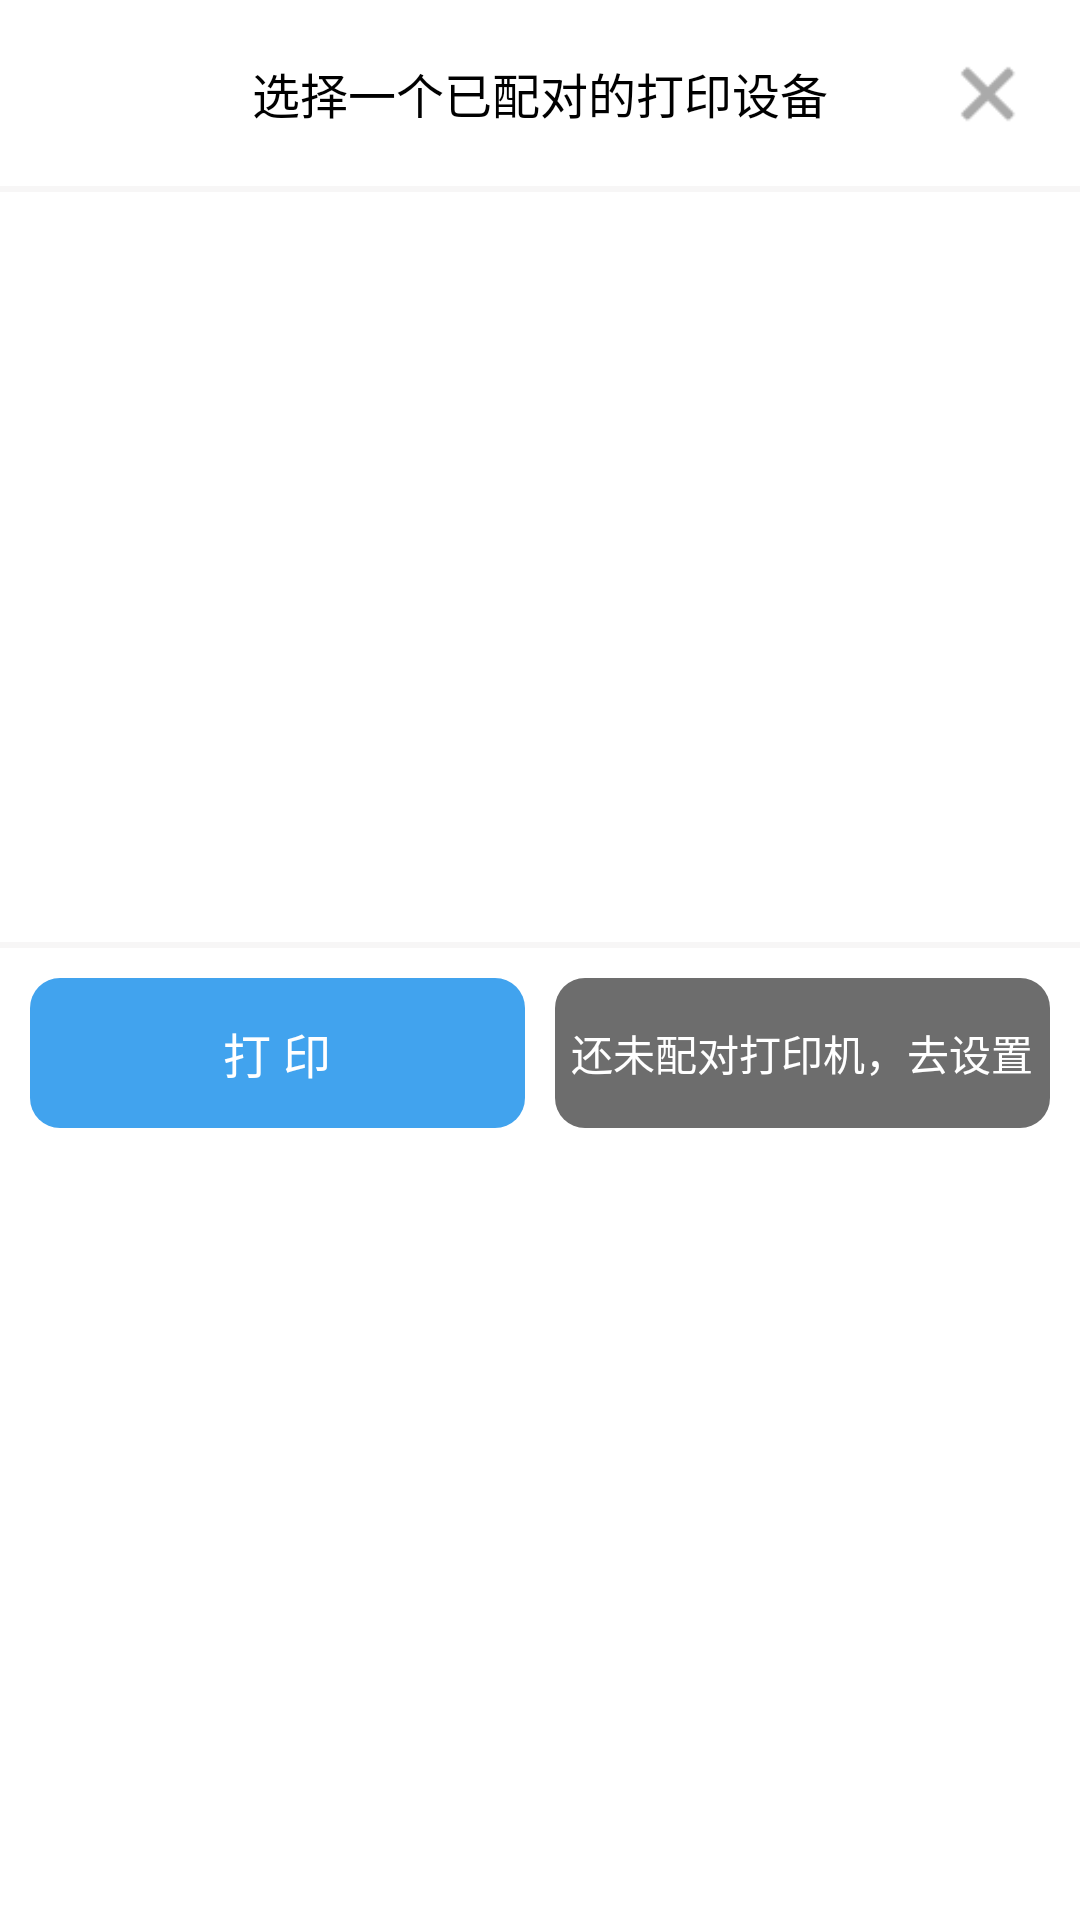

Where to tap for icons on this 1080*1920 app screen, as (x=x, y=y):
close: (x=987, y=93)
